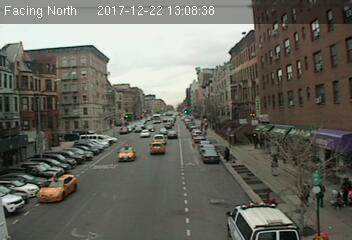car: (36, 170, 77, 204), (117, 143, 136, 161), (203, 148, 219, 161), (150, 142, 167, 154), (167, 130, 178, 138)
police: (222, 197, 296, 240)
